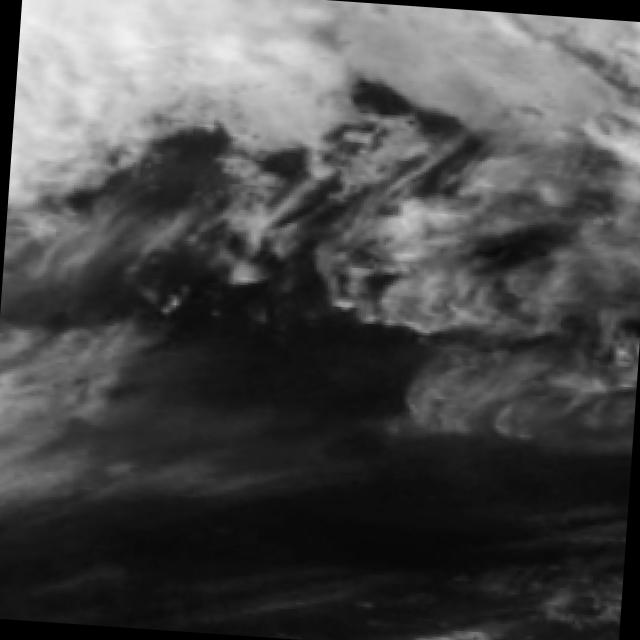CB: (10, 0, 142, 161), (118, 0, 285, 111)
